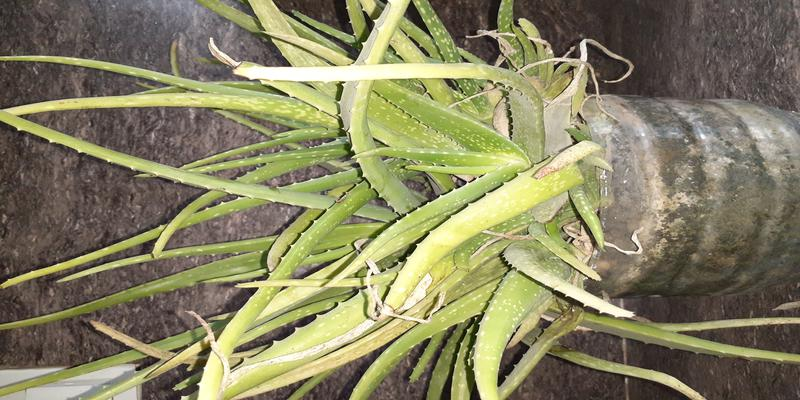Aloevera: (120, 14, 594, 388)
